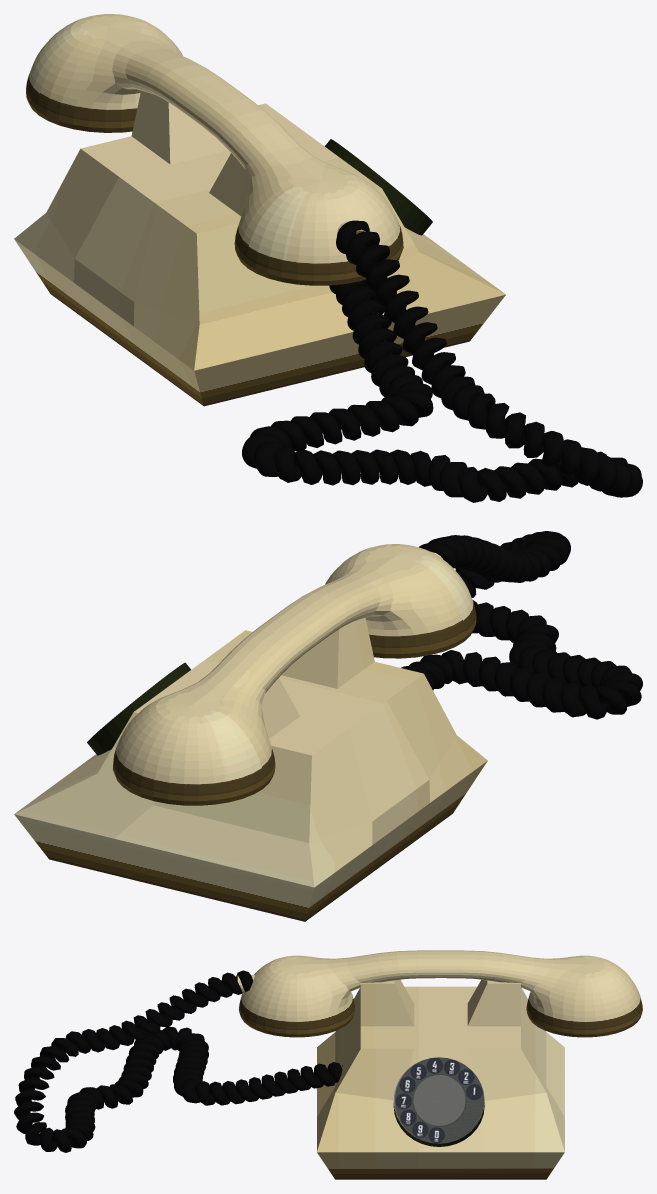
The model's file is Telefonecommalcotexturesfbx.fbx.
3 views of the same model, one above another, from view 1: azimuth 30°, elevation 25°; view 2: azimuth 150°, elevation 25°; view 3: azimuth 270°, elevation 25° (orthographic). The views are drawn at different scales.
Parts seen in each view (by area): view 1: Telefone, Celular, cabo, Discagem; view 2: Telefone, Celular, cabo, Discagem; view 3: Telefone, Celular, cabo, Discagem.001, Discagem.
Boxes of the visible parts, x1,y1,x2,y2 form: Telefone: [14, 90, 505, 406]; Celular: [26, 14, 403, 285]; cabo: [242, 220, 642, 502]; Discagem: [325, 139, 432, 235]; Telefone: [14, 618, 487, 921]; Celular: [113, 544, 476, 805]; cabo: [401, 531, 642, 719]; Discagem: [87, 662, 190, 755]; Telefone: [317, 979, 564, 1179]; Celular: [237, 950, 642, 1037]; cabo: [14, 970, 342, 1152]; Discagem.001: [393, 1057, 484, 1143]; Discagem: [393, 1102, 484, 1146].
Bounding box in the file's own units: 363 × 228 × 788.
4 materials, 2 textured.
